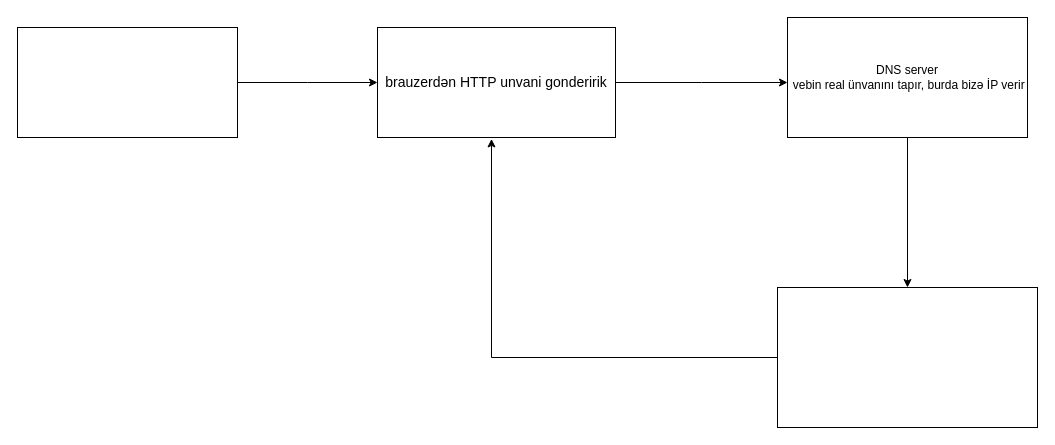
Image size: 1055x445. Some labels were removed from this diagram. Here are the shapes that lost their labels. From the top down, the centre of each, then its label:
At (x=127, y=82): "komp,mob ve s. daxil oluruq brauzerə".
At (x=907, y=357): "Server".
